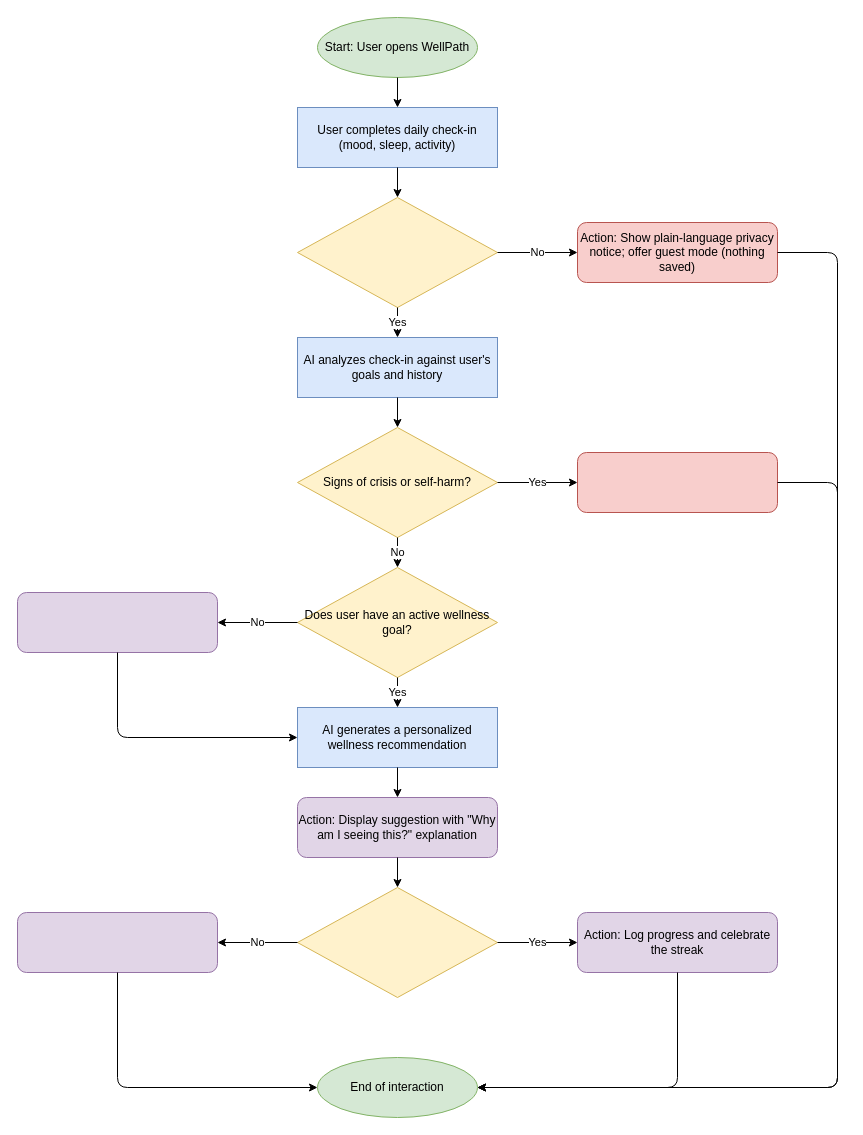
Some shapes in this 863 by 1135 pixel diagram are drawn without their labels. The centre of each missing label's shape, as x and y in pixels:
"Action: Collect feedback and adjust future suggestions" goes at (117,942).
"Action: Display 988 crisis line; offer to connect to a human counselor" goes at (677,482).
"Action: Guide user to set a realistic goal" goes at (117,622).
"Did the user find the suggestion helpful?" goes at (397,942).
"Has user consented to data collection?" goes at (397,252).
